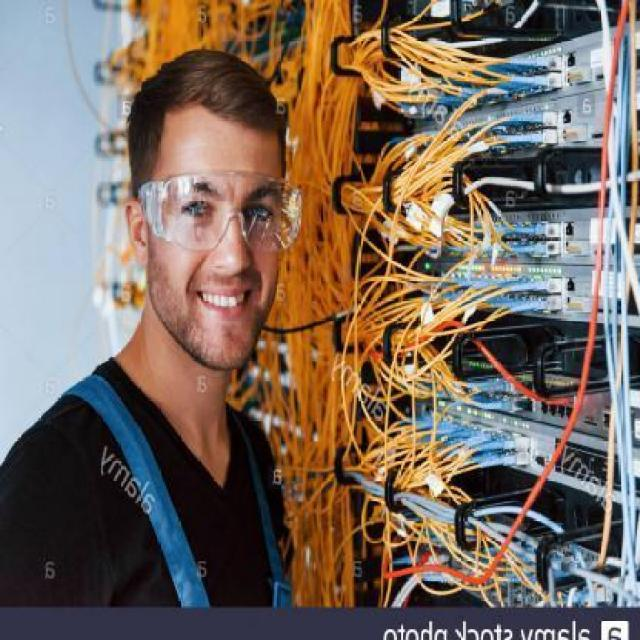Goggles: (128, 172, 305, 256)
